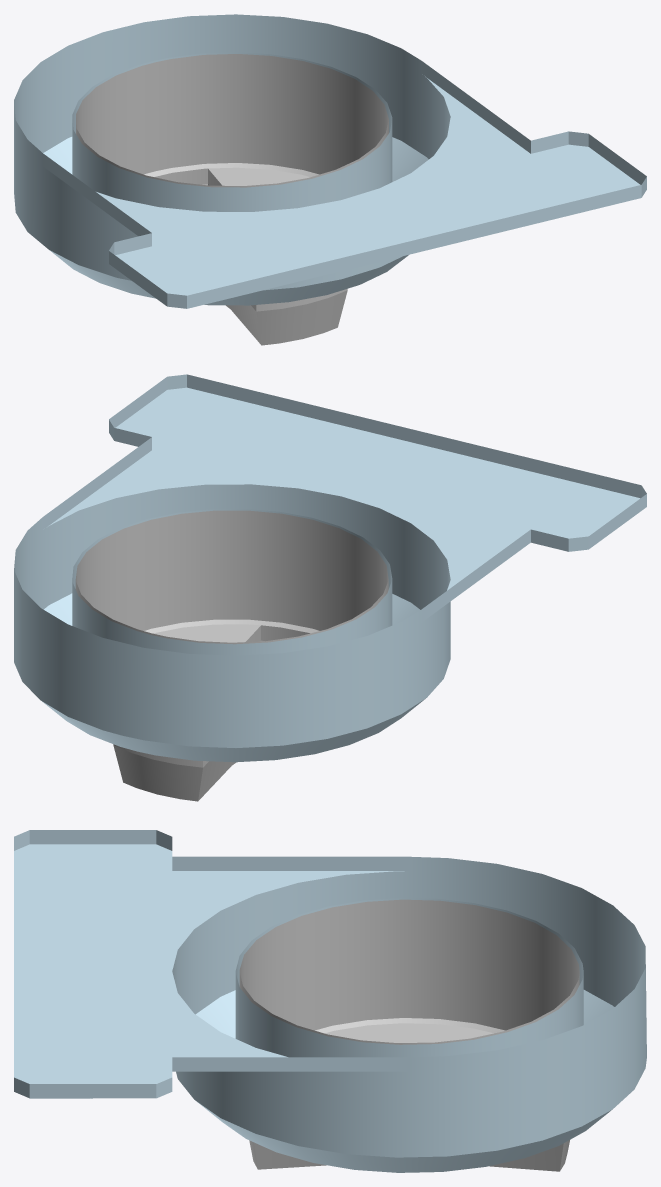
Rendered from selector_switch.glb.
3 renders of one model, top to bottom at view 1: azimuth 30°, elevation 25°; view 2: azimuth 150°, elevation 25°; view 3: azimuth 270°, elevation 25°, orthographic. The views are drawn at different scales.
Visible parts, largest first — view 1: Base, Handle; view 2: Base, Handle; view 3: Base, Handle.
Part boxes in pixels (x1,y1,x2,y2): Base: [14, 14, 646, 308]; Handle: [76, 54, 388, 345]; Base: [14, 374, 646, 762]; Handle: [75, 510, 388, 801]; Base: [14, 830, 646, 1172]; Handle: [239, 899, 579, 1171].
Bounding box in the file's own units: 0.038 × 0.0135 × 0.04.
